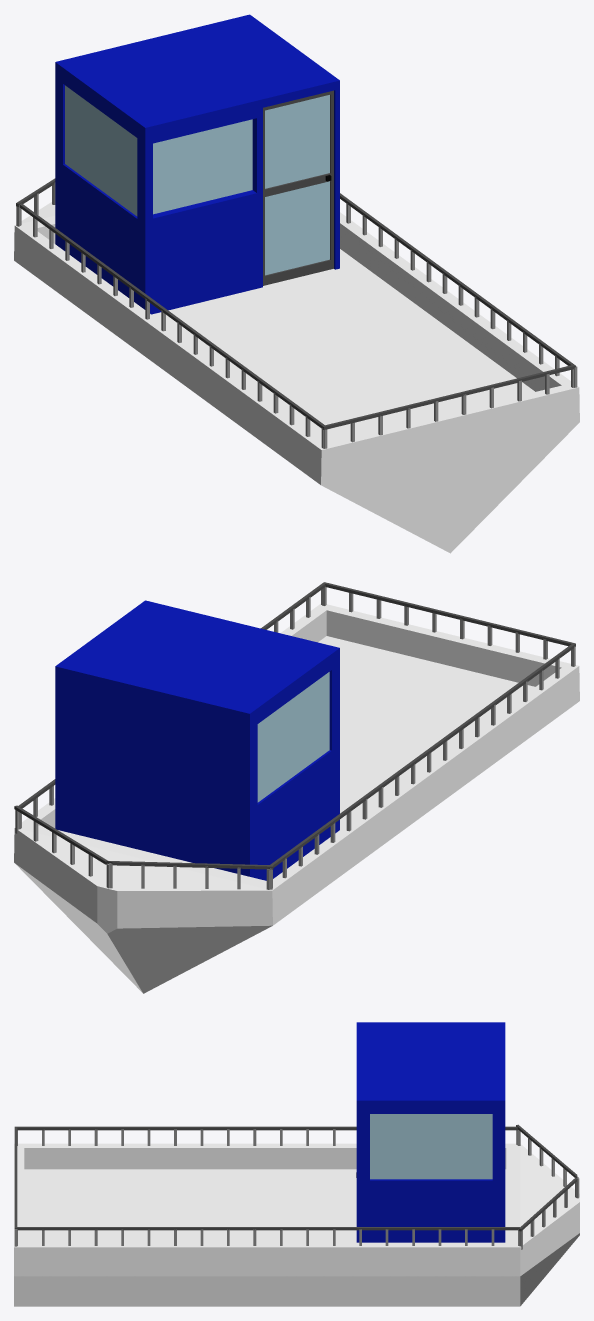
The model's file is BarcoAzul.fbx.
The picture shows the model from 3 angles, top to bottom: view 1: azimuth 30°, elevation 25°; view 2: azimuth 150°, elevation 25°; view 3: azimuth 270°, elevation 25°; orthographic projection. The views are drawn at different scales.
Visible parts, largest first — view 1: Cylinder, Cube.001, Cube.002, Cube.005, Cube.004, Cube.006, Cube.003, Cube.010, Cube.007, Cube.012, Cube.011, Cube.014 (+1 smaller); view 2: Cylinder, Cube.001, Cube.005, Cube.007, Cube.010, Cube.014, Cube.013, Cube.017, Cube.015, Cube.012, Cube.011, Cube.016 (+1 smaller); view 3: Cylinder, Cube.001, Cube.008, Cube.012, Cube.010, Cube.011, Cube.007, Cube.015, Cube.014.
Part boxes in pixels (<box>): Cylinder: <box>14,202,579,553</box>; Cube.001: <box>55,14,339,314</box>; Cube.002: <box>153,119,252,214</box>; Cube.005: <box>65,85,137,216</box>; Cube.004: <box>265,95,329,188</box>; Cube.006: <box>265,181,329,275</box>; Cube.003: <box>263,90,333,285</box>; Cube.010: <box>19,203,326,429</box>; Cube.007: <box>21,209,323,448</box>; Cube.012: <box>340,193,575,367</box>; Cube.011: <box>346,203,573,387</box>; Cube.014: <box>324,365,574,429</box>; Cylinder: <box>14,603,579,993</box>; Cube.001: <box>55,600,339,880</box>; Cube.005: <box>257,672,329,802</box>; Cube.007: <box>266,646,575,889</box>; Cube.010: <box>268,643,575,869</box>; Cube.014: <box>325,583,572,646</box>; Cube.013: <box>321,589,571,665</box>; Cube.017: <box>106,861,273,869</box>; Cube.015: <box>15,810,109,888</box>; Cube.012: <box>18,582,326,808</box>; Cube.011: <box>19,586,326,828</box>; Cube.016: <box>14,805,107,864</box>; Cylinder: <box>14,1143,579,1306</box>; Cube.001: <box>356,1022,505,1242</box>; Cube.008: <box>370,1114,492,1179</box>; Cube.012: <box>14,1227,519,1230</box>; Cube.010: <box>14,1126,517,1130</box>; Cube.011: <box>17,1229,519,1245</box>; Cube.007: <box>17,1129,520,1145</box>; Cube.015: <box>519,1178,579,1249</box>; Cube.014: <box>14,1127,17,1226</box>.
Bounding box in the file's own units: 89.67 × 98.31 × 206.
